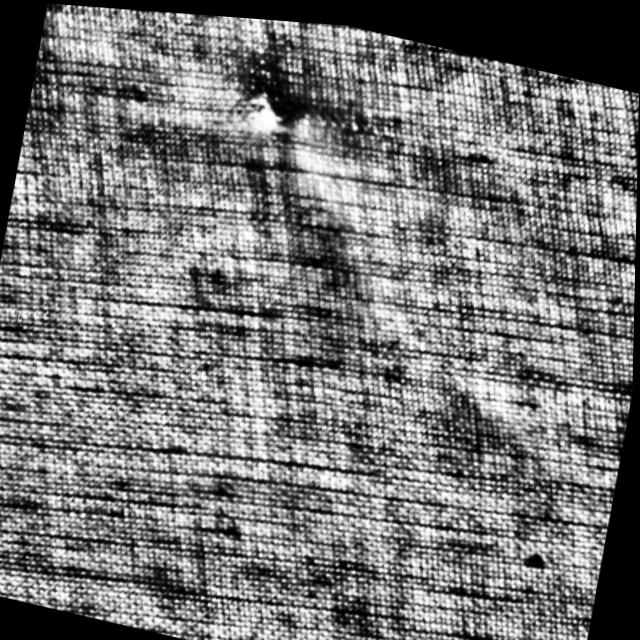Hole: (228, 71, 312, 139)
